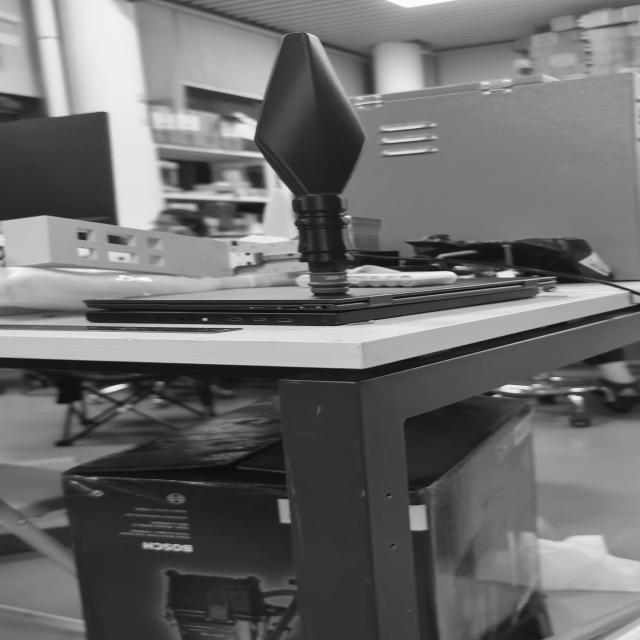base: (308, 271, 351, 295)
